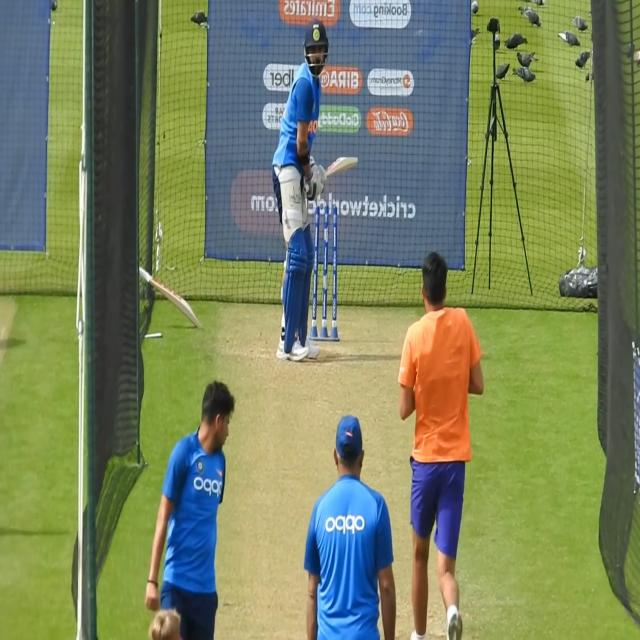stump: (312, 202, 340, 343)
